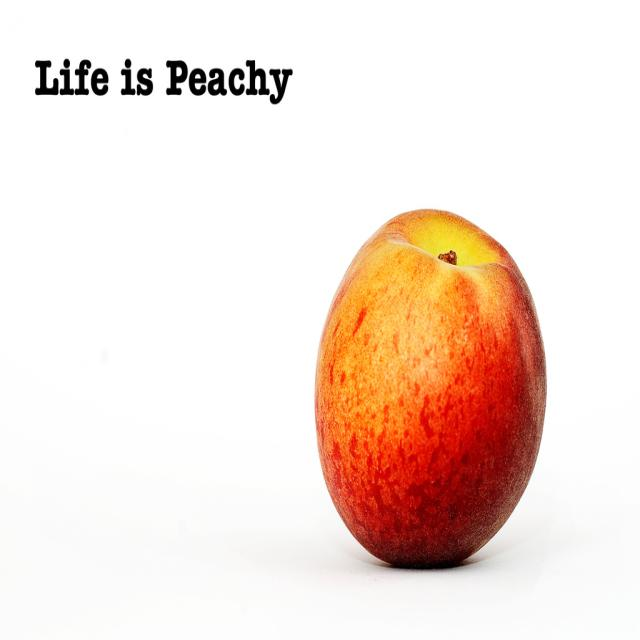Peach: (312, 206, 546, 569)
